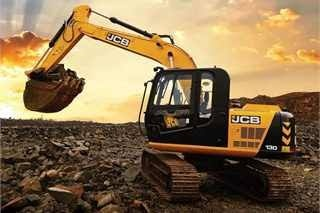excavator: (23, 7, 311, 198)
